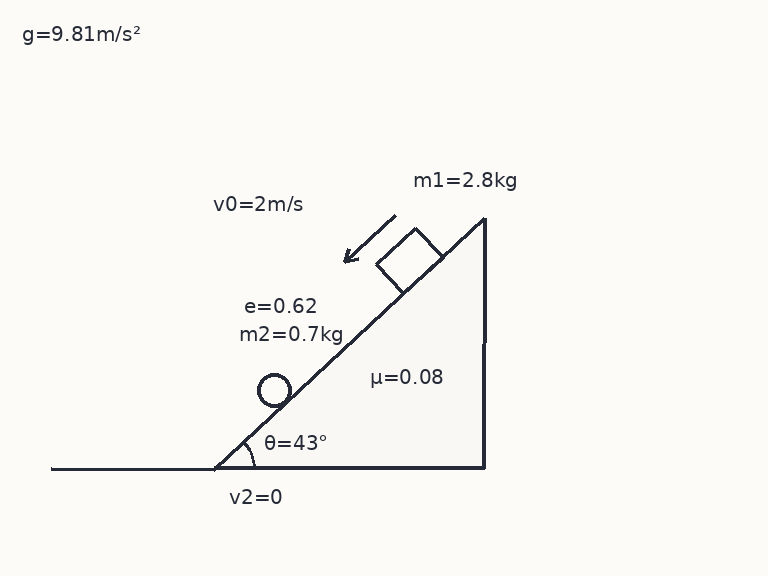ball: (255, 371, 293, 409)
block: (375, 226, 444, 295)
ramp: (212, 215, 486, 471)
